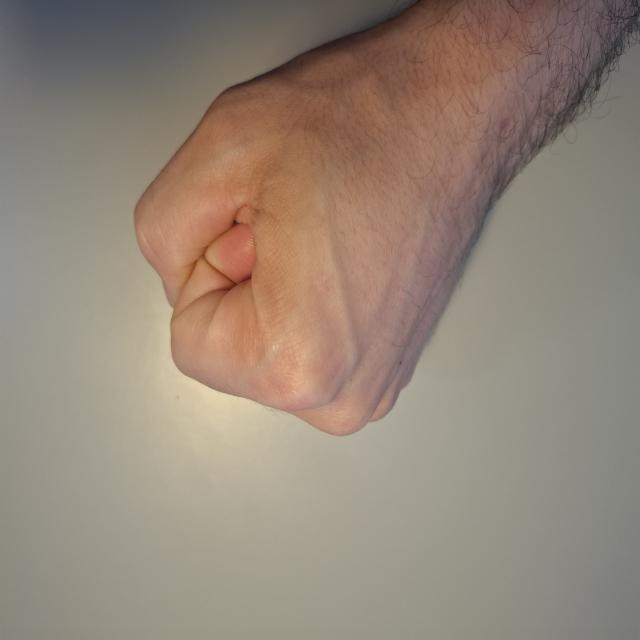glove_off: (132, 9, 518, 440)
